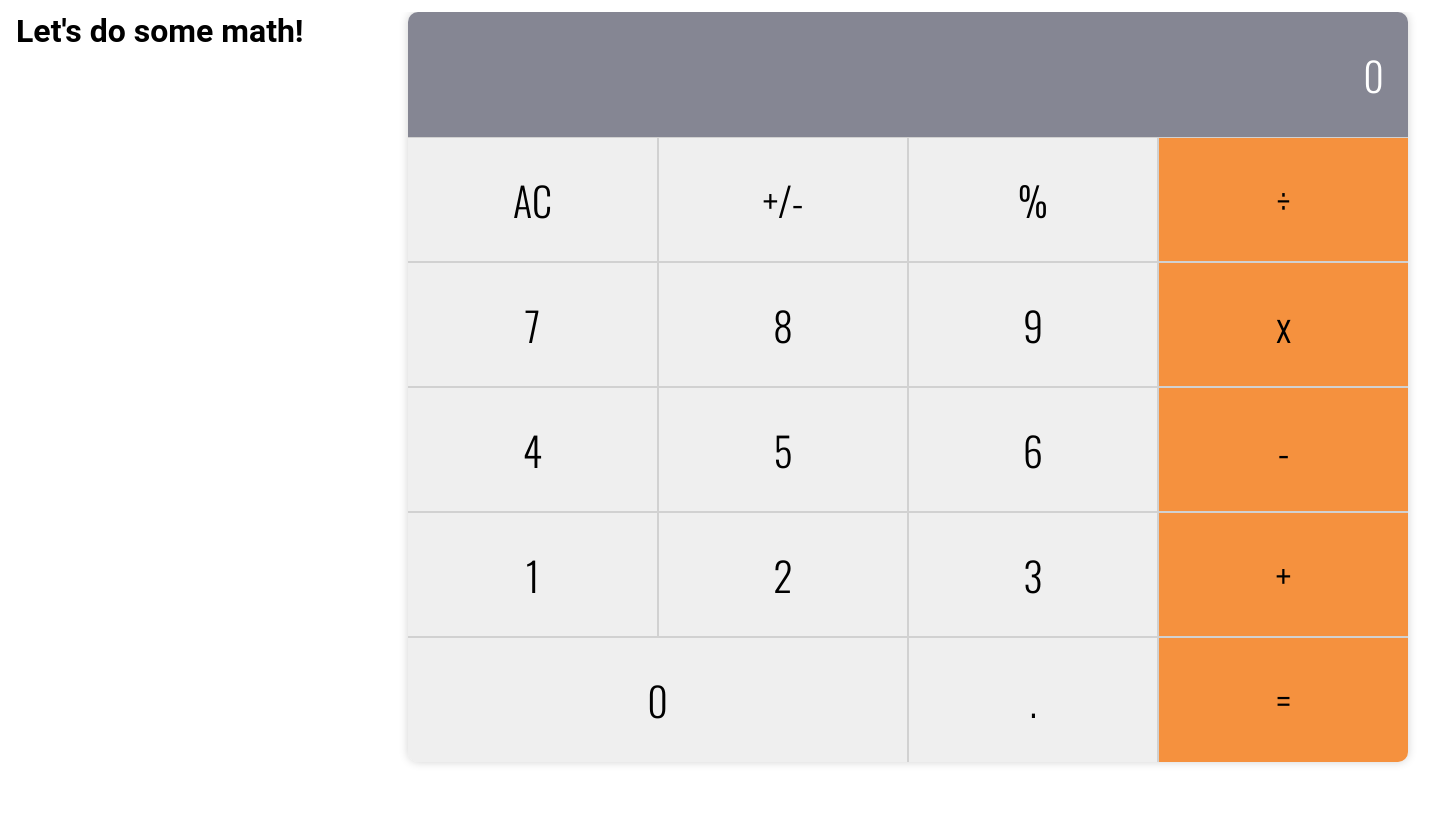
Test case: Calculator user interaction › when user hits a "7" it renders "7"
Click the button "7" at (533, 324), box [408,262,658,387]
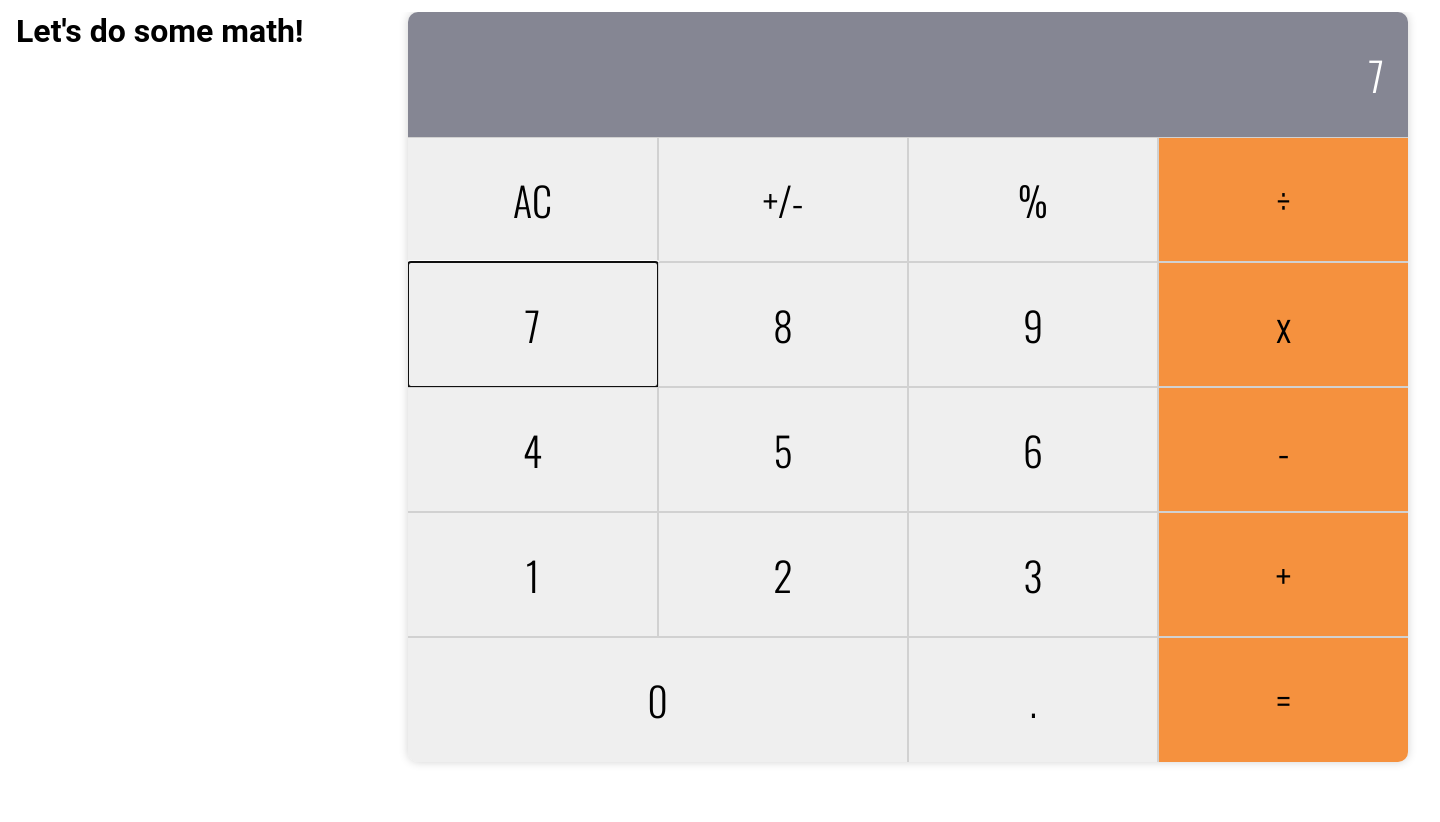
Expected: the text with test id "display" reads "7", [1368,44,1384,104]
